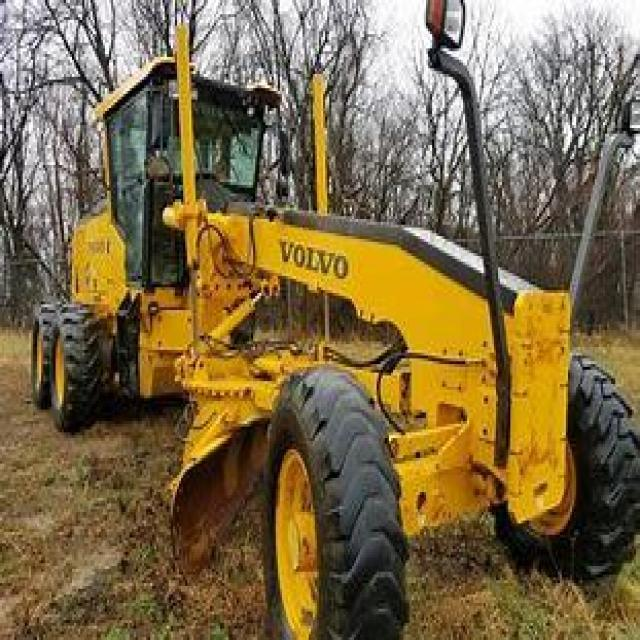Grader: (23, 43, 632, 637)
